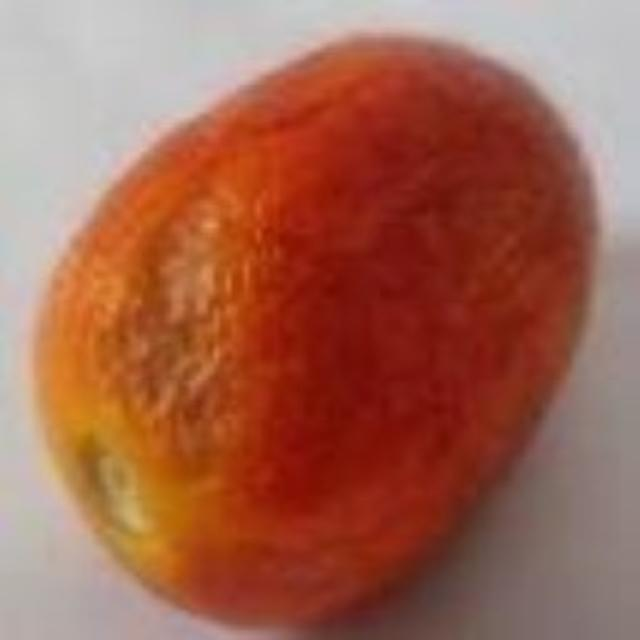defect: (20, 33, 602, 633)
